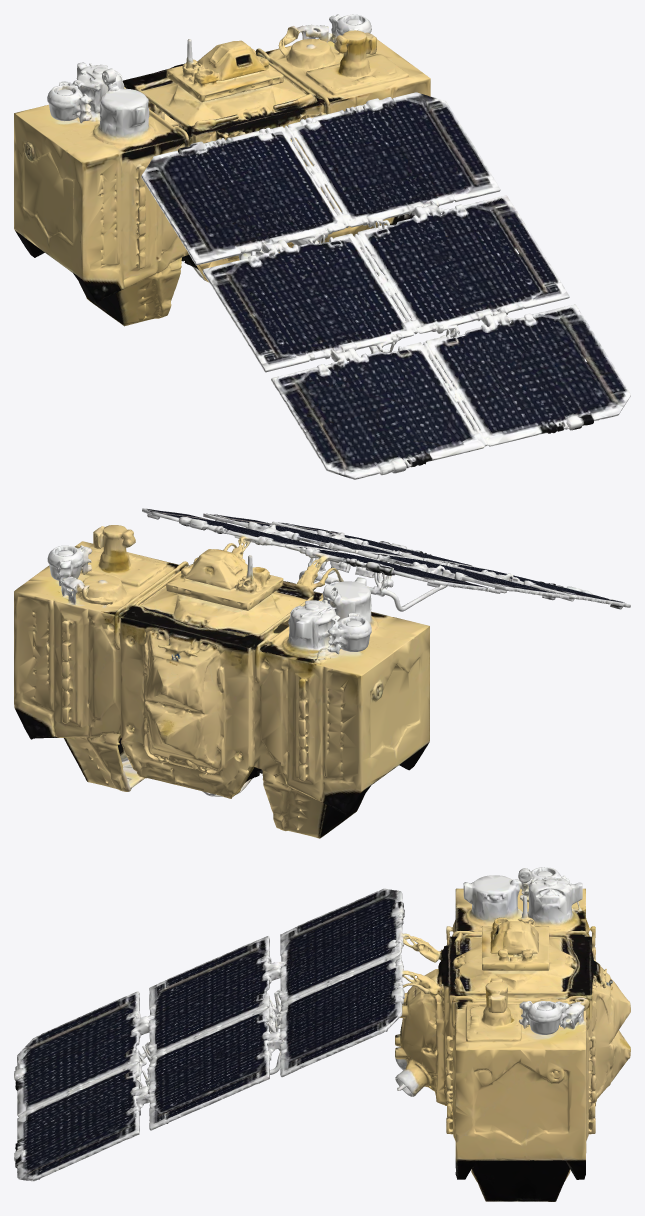
File: sentinel2.glb
3 views of the same model, one above another, from view 1: azimuth 30°, elevation 25°; view 2: azimuth 150°, elevation 25°; view 3: azimuth 270°, elevation 25° (orthographic). The views are drawn at different scales.
Bounding box in the file's own units: 1.18 × 0.8173 × 1.9.
Materials: 1 (1 with a texture image).
